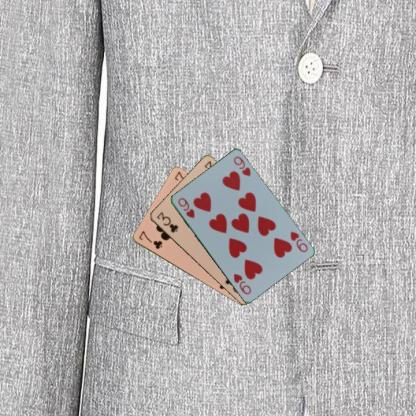3c: (154, 209, 179, 234)
7c: (136, 228, 163, 250)
9h: (287, 229, 309, 254), (175, 194, 196, 219)
